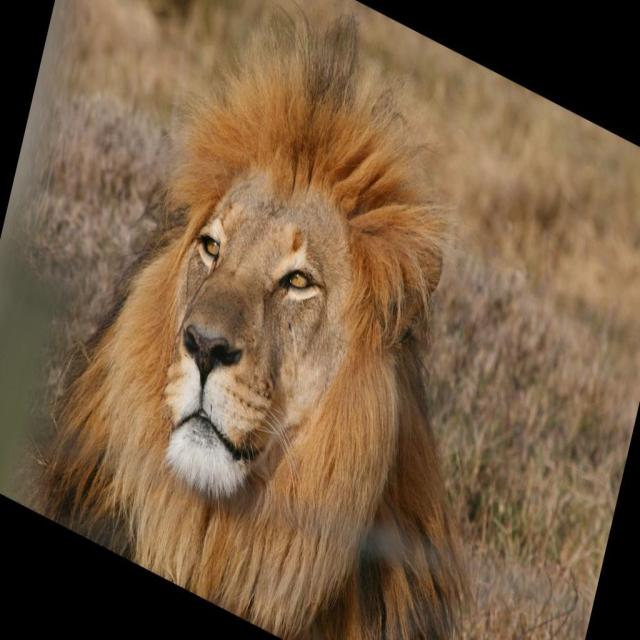Lion: (9, 0, 589, 639)
